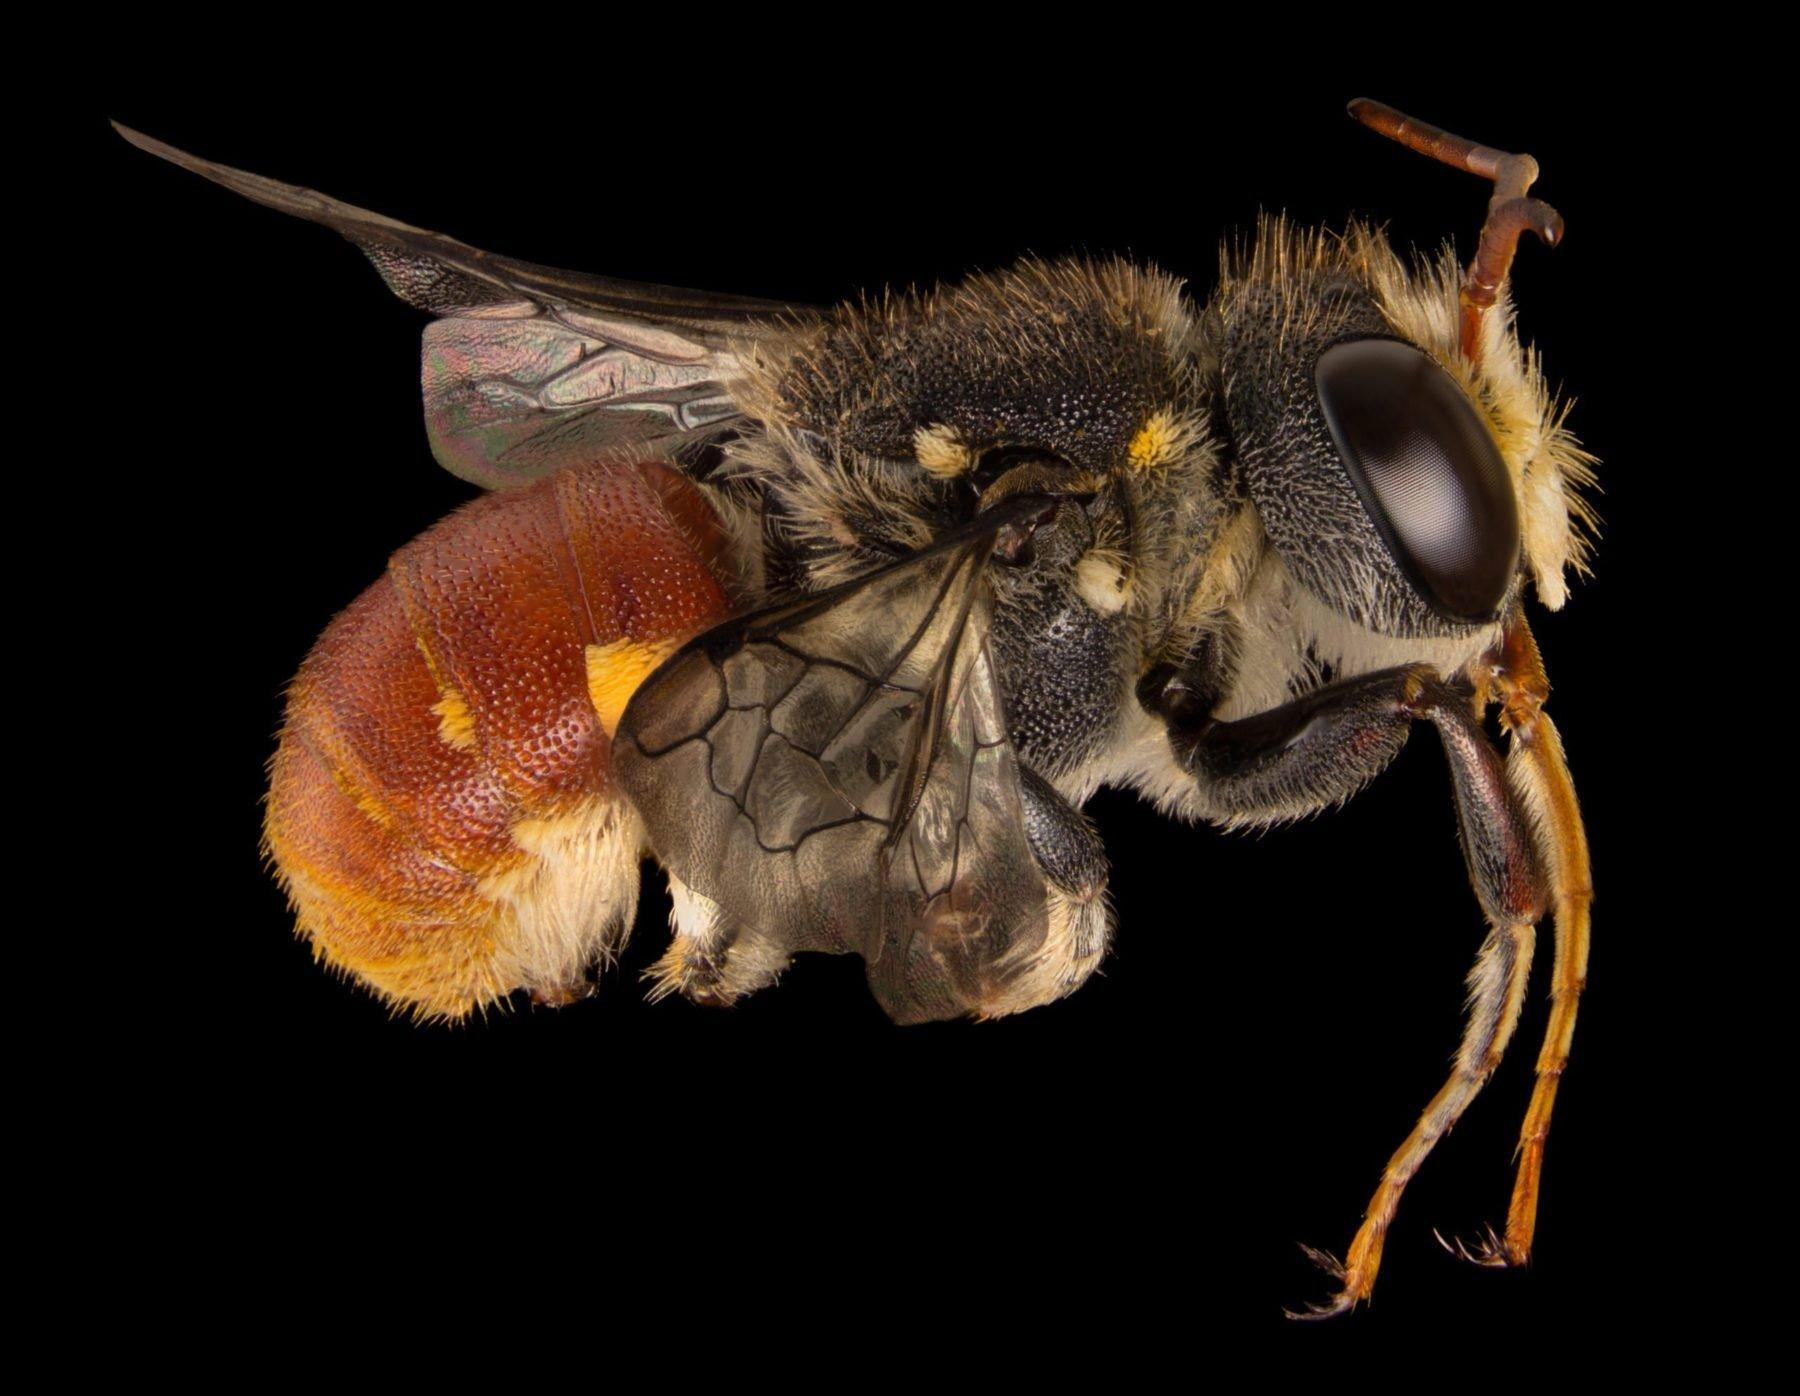Allodapula: (89, 69, 1712, 1359)
